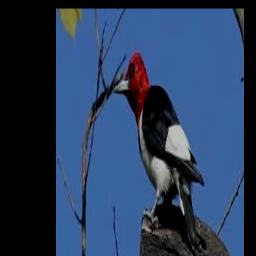Woodpecker: (113, 51, 204, 251)
